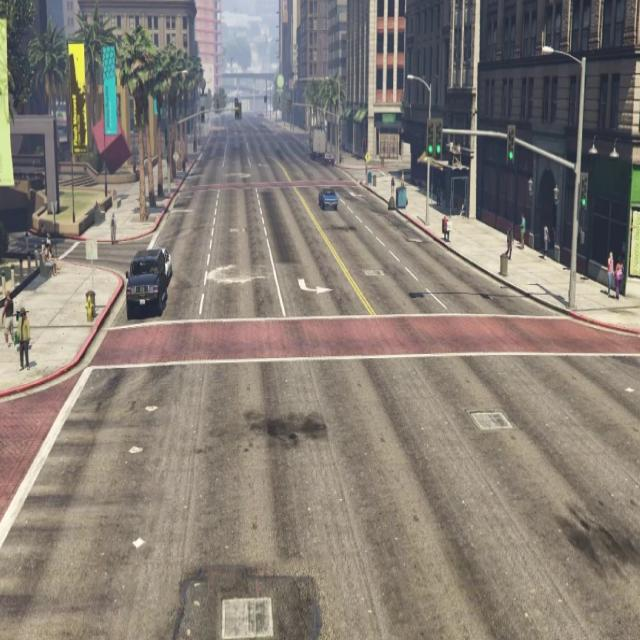Green-Signal: (424, 104, 446, 177), (577, 167, 591, 222), (505, 115, 518, 172)
